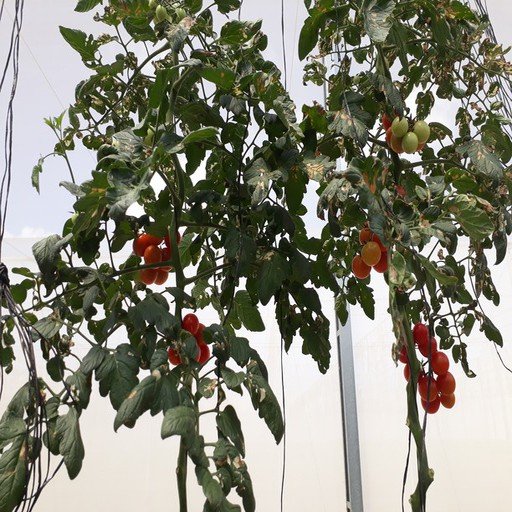mixed tomato bunch: (354, 185, 405, 277), (382, 111, 430, 153)
red tomato bunch: (397, 324, 456, 413), (135, 230, 180, 283), (169, 315, 208, 367)
